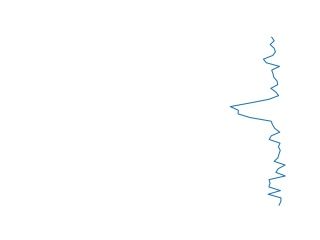interdistributaryEstuary: (226, 37, 295, 206)
